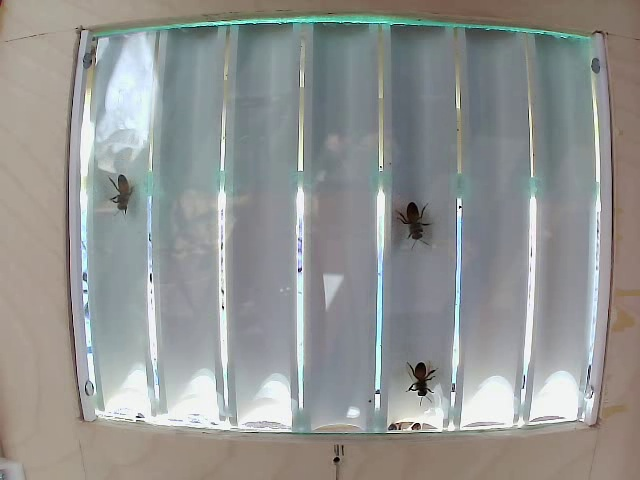bee: (389, 341, 441, 402), (89, 168, 147, 219), (394, 190, 434, 252)
